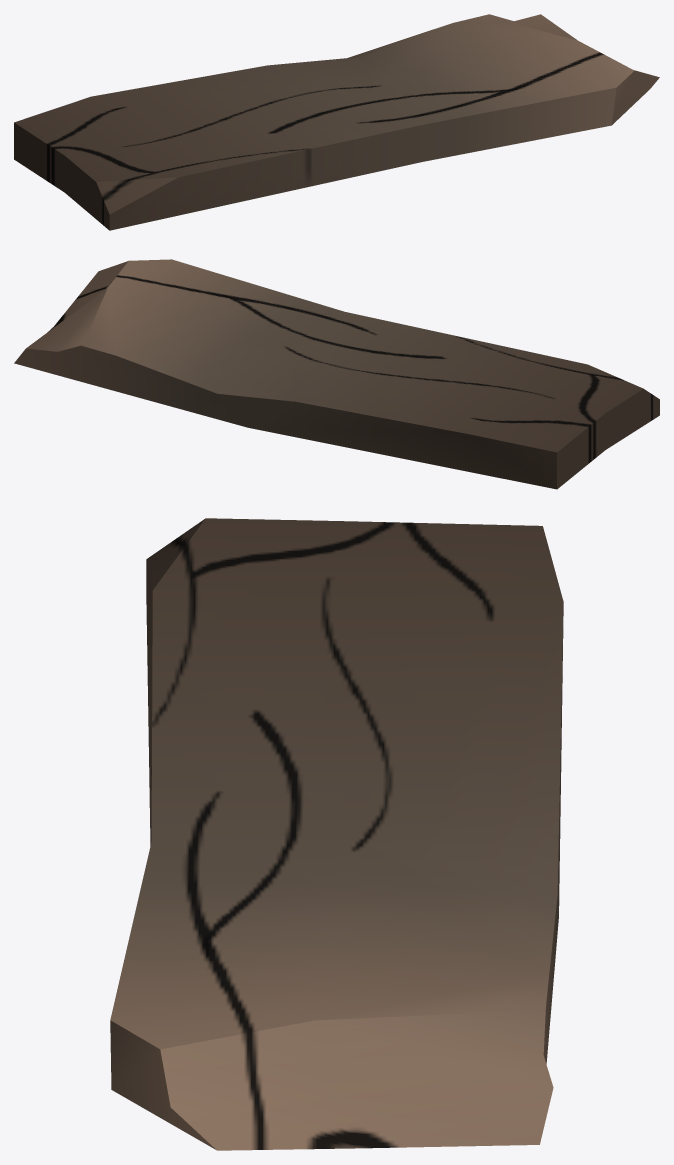
The model's file is Wood_Plank_02.fbx.
The picture shows the model from 3 angles, top to bottom: view 1: azimuth 30°, elevation 25°; view 2: azimuth 150°, elevation 25°; view 3: azimuth 270°, elevation 25°; orthographic projection. The views are drawn at different scales.
Visible parts, largest first — view 1: Cube.233; view 2: Cube.233; view 3: Cube.233.
Boxes of the visible parts, box(x1,y1,x2,y2) form: Cube.233: box(14, 14, 659, 230); Cube.233: box(14, 259, 659, 489); Cube.233: box(110, 518, 563, 1150).
Size of the model in its own units: 178 by 15.15 by 62.72.
